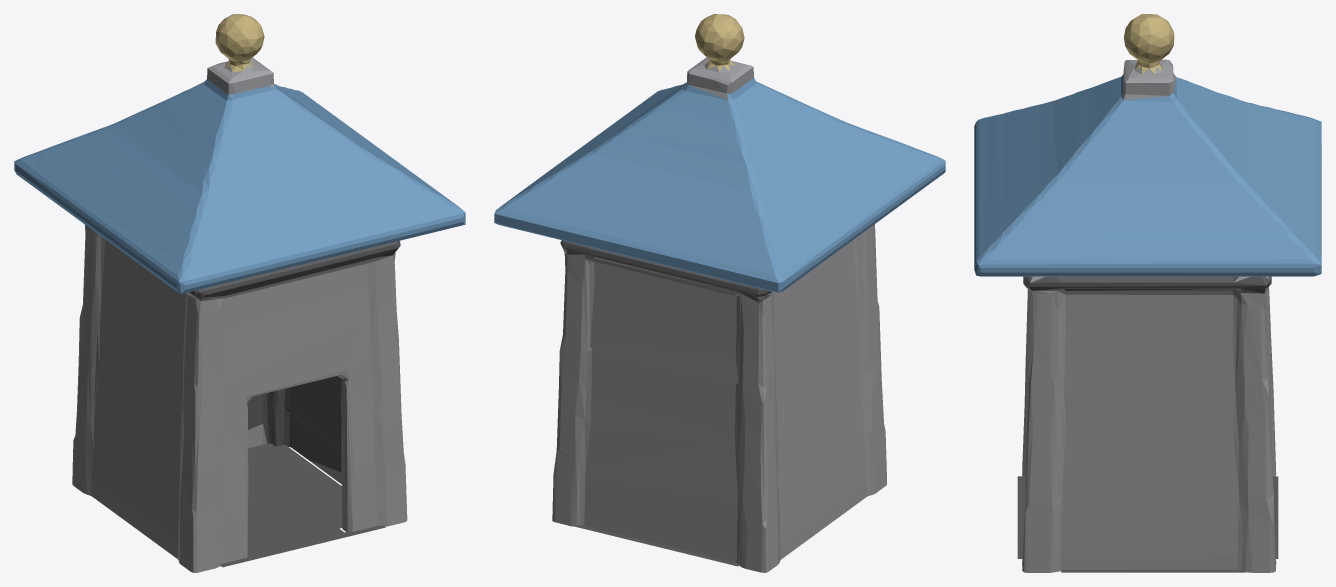
The picture shows the model from 3 angles, left to right: view 1: azimuth 30°, elevation 25°; view 2: azimuth 150°, elevation 25°; view 3: azimuth 270°, elevation 25°; orthographic projection. The views are drawn at different scales.
Parts seen in each view (by area): view 1: geometry_0; view 2: geometry_0; view 3: geometry_0.
Part boxes in pixels (bbox=[...]): geometry_0: bbox=[14, 14, 465, 572]; geometry_0: bbox=[494, 14, 945, 572]; geometry_0: bbox=[974, 14, 1321, 572].
Size of the model in its own units: 0.5801 by 0.9332 by 0.5843.
